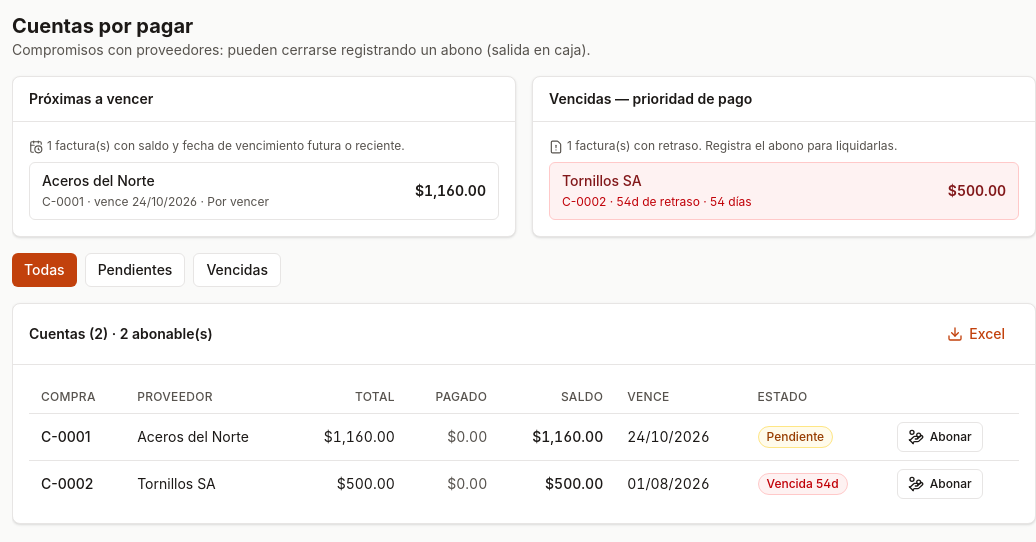
it: CuentasPagarPage (profundización) › cambiar al tab 'Pendientes' filtra la tabla
Expected: the text "C-0001" is shown, [41,428,91,445]
Click the button "Pendientes" at {"x": 135, "y": 270}, box [85,253,186,287]
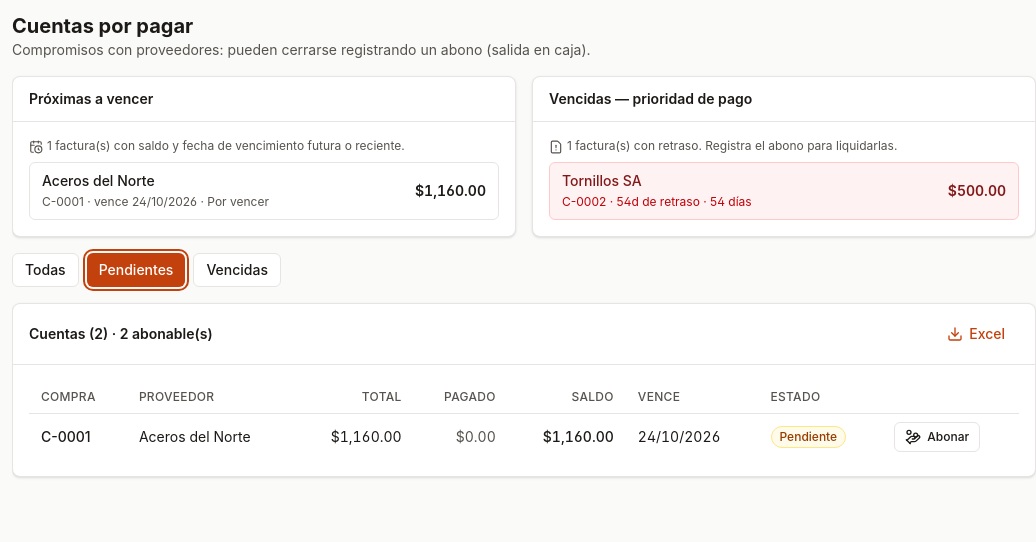
Expected: the text "C-0001" is shown, [41,428,91,445]
Click the button "Todas" at {"x": 45, "y": 270}, box [12,253,79,287]
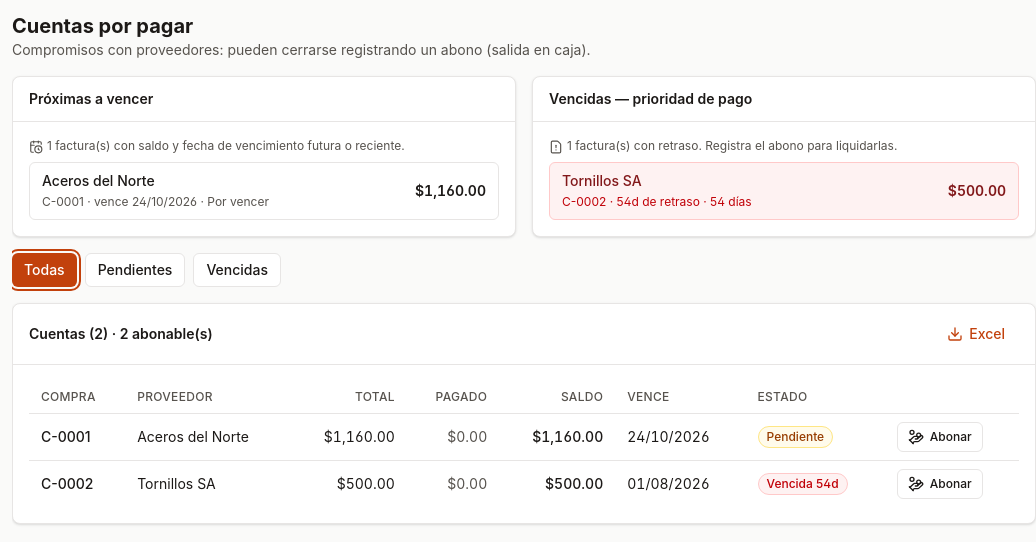
Expected: the text "C-0002" is shown, [41,475,94,492]
